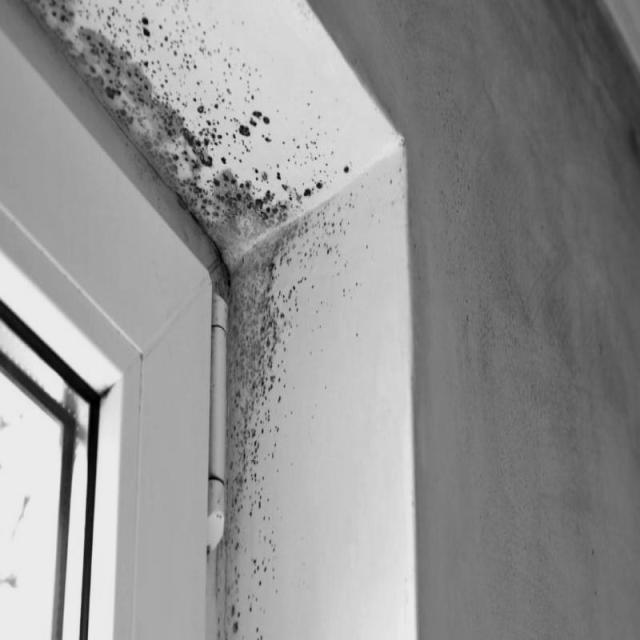stain marks: (40, 4, 358, 640)
